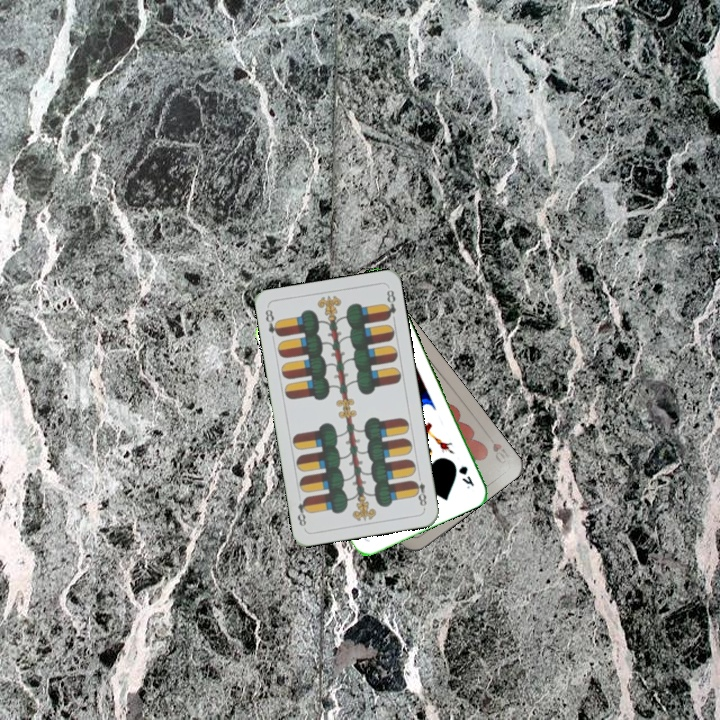E8: (409, 470, 429, 511), (261, 305, 283, 339)
GK: (454, 462, 477, 491)
H10: (482, 429, 513, 467)
